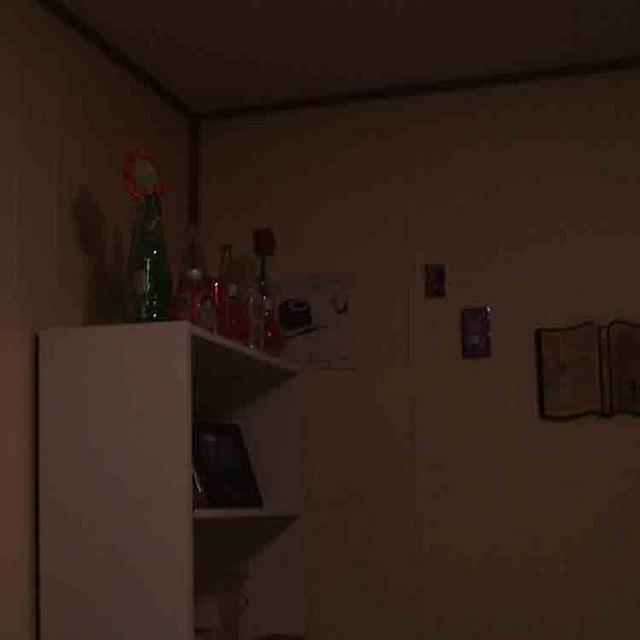Bottle: (128, 180, 175, 316)
